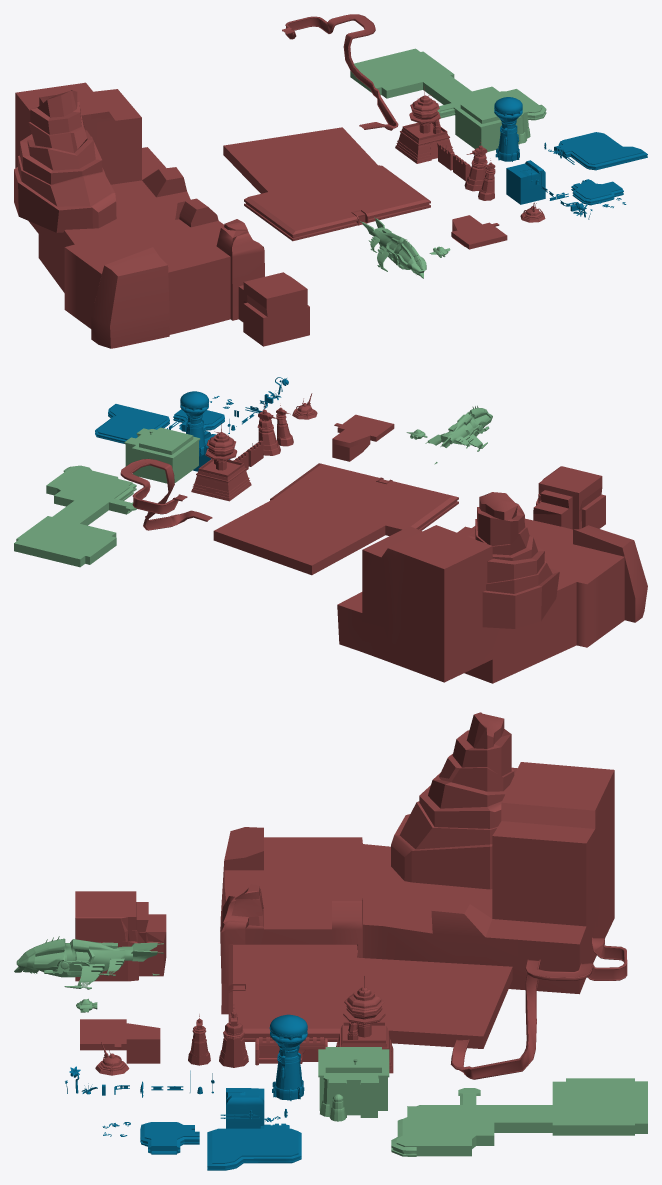
File: assets uv mapped.fbx
3 renders of one model, top to bottom at view 1: azimuth 30°, elevation 25°; view 2: azimuth 150°, elevation 25°; view 3: azimuth 270°, elevation 25°, orthographic. The views are drawn at different scales.
Visible parts, largest first — view 1: Citadel_rcok_plat, Far_Plat_A, rock_formation, Platform_C, arch_rock_plat, base (×2), magnet_ion_path, Platform_A, main, rock_front, Base, Far_Plat_B (+3 smaller); view 2: Citadel_rcok_plat, Far_Plat_A, rock_formation, Platform_C, base (×2), arch_rock_plat, magnet_ion_path, Far_Plat_B, main, Platform_A, Base, tower2 (+2 smaller); view 3: Citadel_rcok_plat, Far_Plat_A, rock_formation, Platform_C, base (×3), arch_rock_plat, magnet_ion_path, Platform_A, Far_Plat_B, Base, Platform_B, rock_front (+3 smaller).
Part boxes in pixels (left/top/right/bottom): Citadel_rcok_plat: left=15, top=82, right=264, bottom=348; Far_Plat_A: left=223, top=127, right=430, bottom=241; rock_formation: left=14, top=90, right=116, bottom=232; Platform_C: left=350, top=48, right=546, bottom=120; arch_rock_plat: left=238, top=272, right=309, bottom=346; base (×2): left=372, top=97, right=528, bottom=278; magnet_ion_path: left=282, top=14, right=398, bottom=130; Platform_A: left=554, top=132, right=647, bottom=170; main: left=395, top=122, right=454, bottom=163; rock_front: left=506, top=160, right=545, bottom=204; Base: left=494, top=97, right=522, bottom=161; Far_Plat_B: left=451, top=215, right=507, bottom=249; Citadel_rcok_plat: left=337, top=503, right=647, bottom=683; Far_Plat_A: left=213, top=463, right=458, bottom=575; rock_formation: left=469, top=492, right=559, bottom=628; Platform_C: left=14, top=465, right=136, bottom=567; base (×2): left=124, top=408, right=492, bottom=483; arch_rock_plat: left=533, top=466, right=605, bottom=529; magnet_ion_path: left=120, top=458, right=212, bottom=530; Far_Plat_B: left=332, top=414, right=394, bottom=461; main: left=191, top=459, right=251, bottom=501; Platform_A: left=95, top=404, right=169, bottom=444; Base: left=180, top=391, right=208, bottom=456; tower2: left=205, top=423, right=237, bottom=470; Citadel_rcok_plat: left=220, top=762, right=614, bottom=1014; Far_Plat_A: left=228, top=944, right=512, bottom=1048; rock_formation: left=391, top=712, right=517, bottom=889; Platform_C: left=391, top=1078, right=647, bottom=1156; base (×3): left=14, top=938, right=389, bottom=1117; arch_rock_plat: left=75, top=891, right=166, bottom=981; magnet_ion_path: left=450, top=937, right=627, bottom=1079; Platform_A: left=207, top=1123, right=301, bottom=1170; Far_Plat_B: left=80, top=1019, right=160, bottom=1063; Base: left=269, top=1014, right=307, bottom=1100; Platform_B: left=140, top=1122, right=199, bottom=1154; rock_front: left=226, top=1088, right=264, bottom=1128.
Size of the model in its own units: 119 by 36.92 by 91.96.
